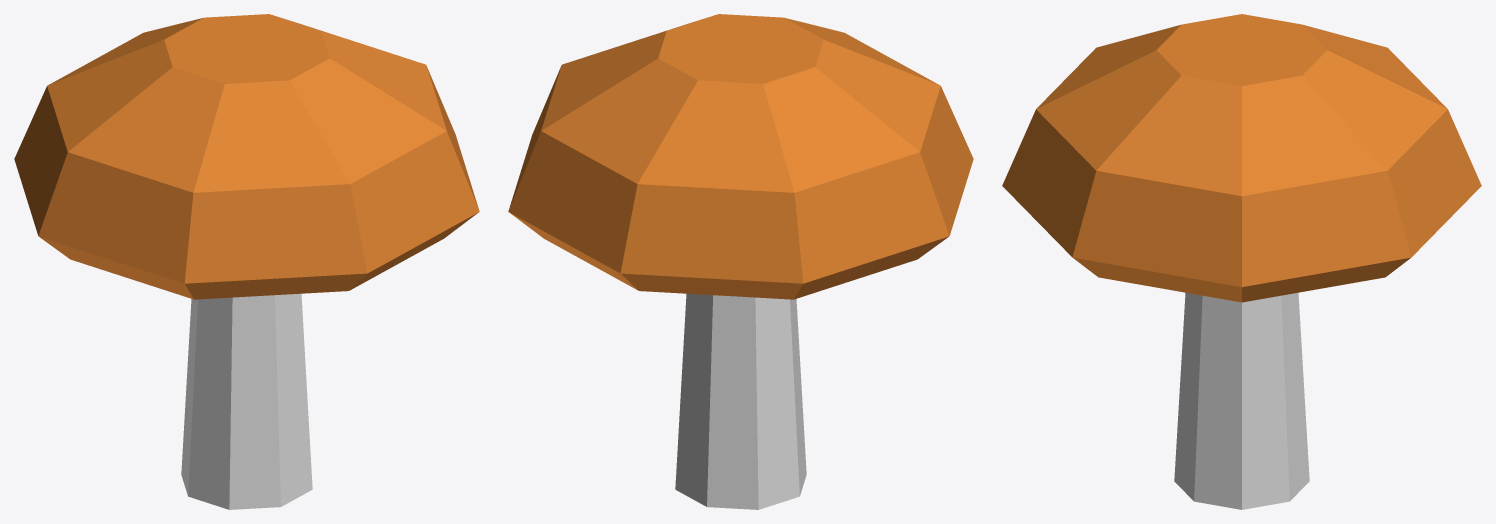
Rendered from Mushroom_05.fbx.
3 renders of one model, left to right at view 1: azimuth 30°, elevation 25°; view 2: azimuth 150°, elevation 25°; view 3: azimuth 270°, elevation 25°, orthographic.
Visible parts, largest first — view 1: Mushroom_05; view 2: Mushroom_05; view 3: Mushroom_05.
Boxes of the visible parts, x1=… form: Mushroom_05: x1=14, y1=14, x2=479, y2=509; Mushroom_05: x1=508, y1=14, x2=973, y2=509; Mushroom_05: x1=1002, y1=14, x2=1481, y2=509.
Size of the model in its own units: 71.27 by 70.7 by 71.27.
